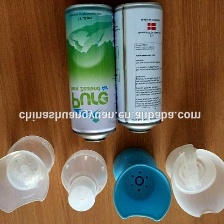aerosol_cans: (61, 0, 117, 145), (109, 0, 167, 137)
